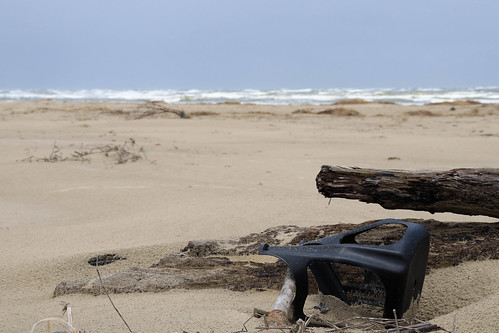beach: (1, 106, 499, 333)
chair: (239, 206, 435, 318)
sea: (1, 83, 496, 105)
sky: (1, 1, 495, 85)
